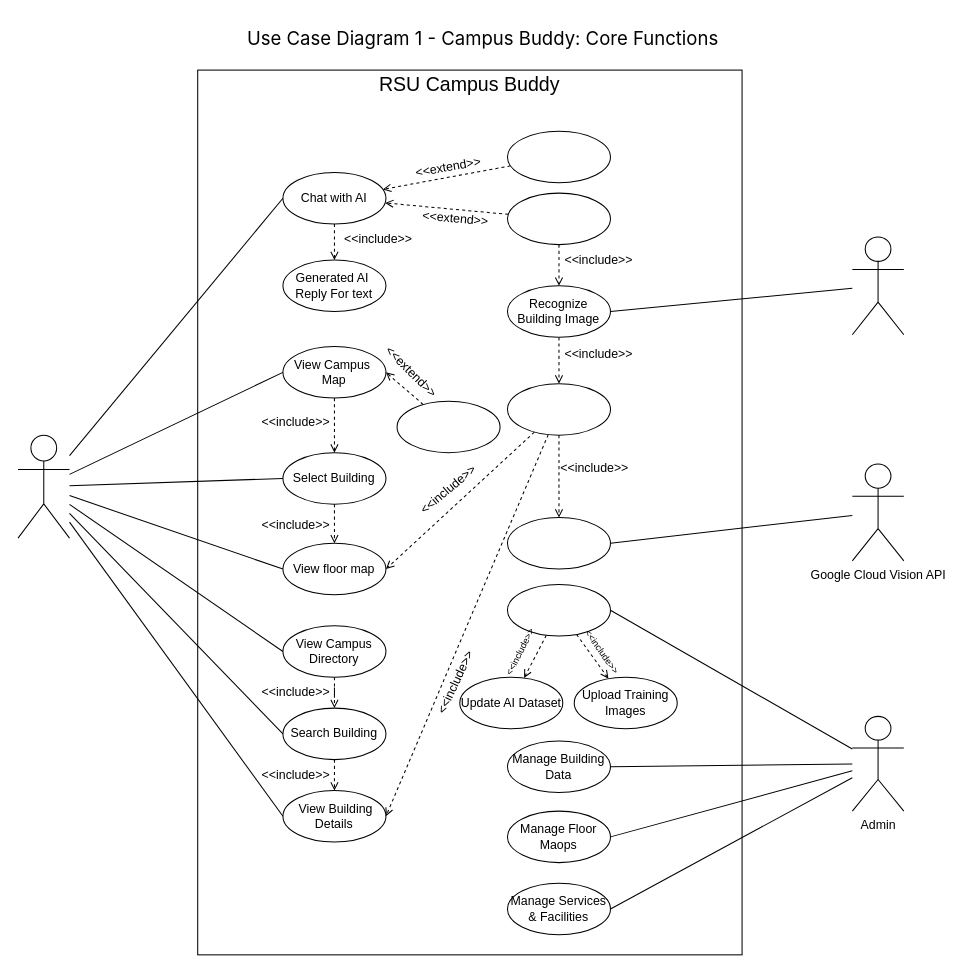
This 963x973 diagram has some shape labels left out. The shapes that lost their labels are listed below. From the top down, each one's centre as x and y in pixels, then its label:
At (x=558, y=156): "View Chat History".
At (x=558, y=218): "Upload Building Photo".
At (x=877, y=285): "Teachable Machine AI".
At (x=448, y=426): "Calculate Route".
At (x=558, y=409): "Generated AI Reply For Image".
At (x=43, y=486): "Student".
At (x=558, y=543): "View Google Map".
At (x=558, y=609): "Train AI Model".
